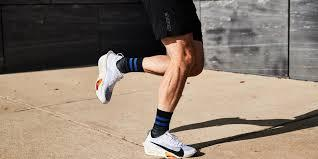nike logo: (148, 137, 188, 158)
